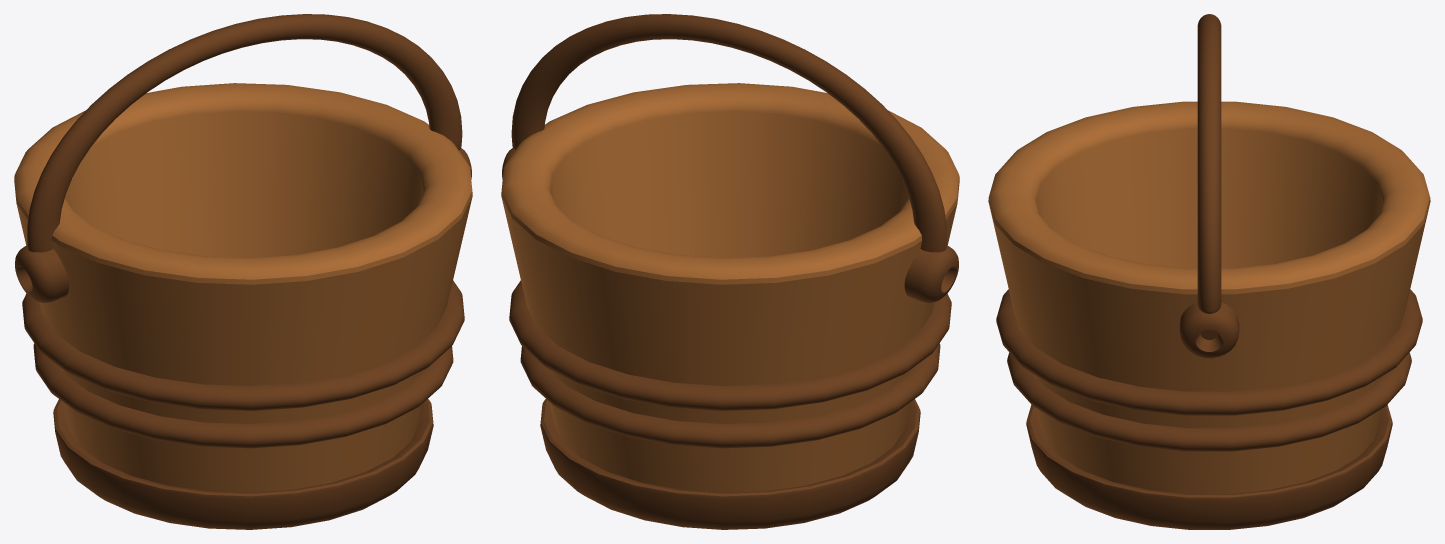
The model's file is kova.fbx.
3 views of the same model, side by side, from view 1: azimuth 30°, elevation 25°; view 2: azimuth 150°, elevation 25°; view 3: azimuth 270°, elevation 25° (orthographic). The views are drawn at different scales.
Visible parts, largest first — view 1: kova, kulp; view 2: kova, kulp; view 3: kova, kulp.
Part boxes in pixels (x1=…): kova: x1=14, y1=83, x2=472, y2=529; kulp: x1=27, y1=14, x2=462, y2=252; kova: x1=501, y1=83, x2=959, y2=529; kulp: x1=511, y1=14, x2=946, y2=252; kova: x1=988, y1=101, x2=1430, y2=529; kulp: x1=1197, y1=14, x2=1221, y2=313.
Size of the model in its own units: 2.19 by 2.08 by 1.97.
